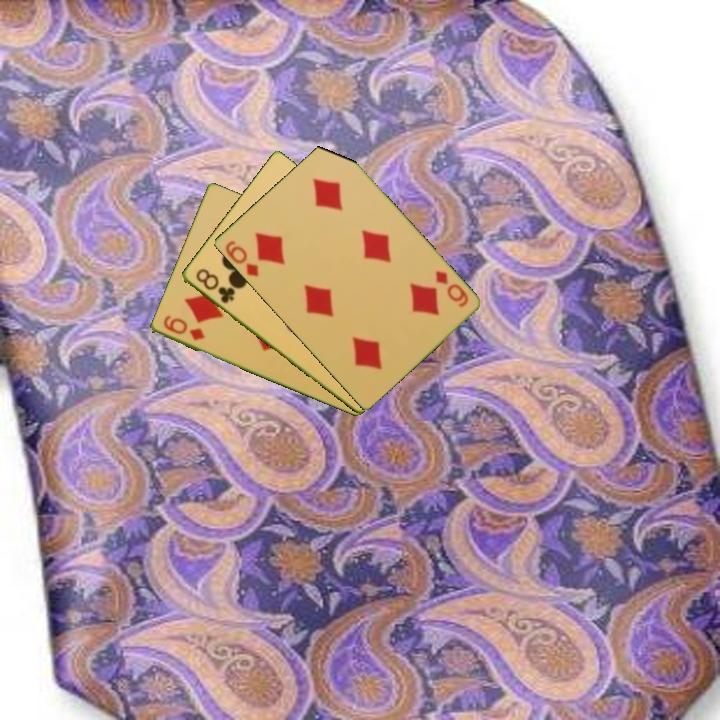6d: (221, 237, 261, 280), (431, 267, 471, 310), (159, 312, 208, 344)
8c: (192, 265, 238, 307)
